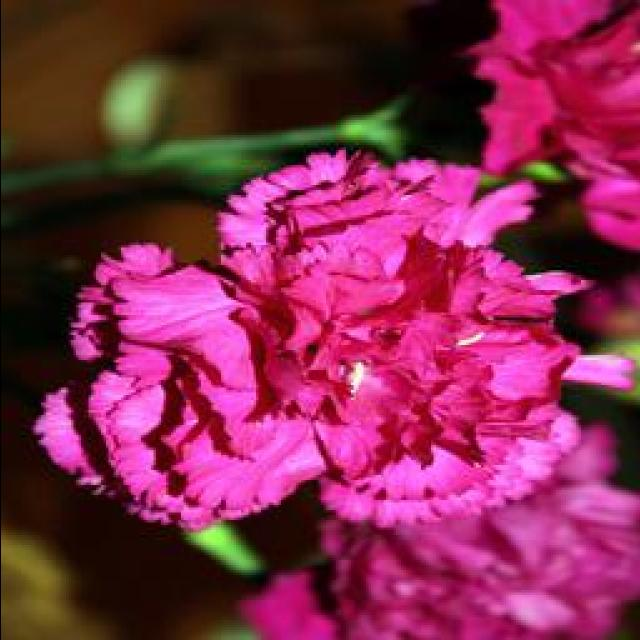carnation: (33, 154, 567, 540)
